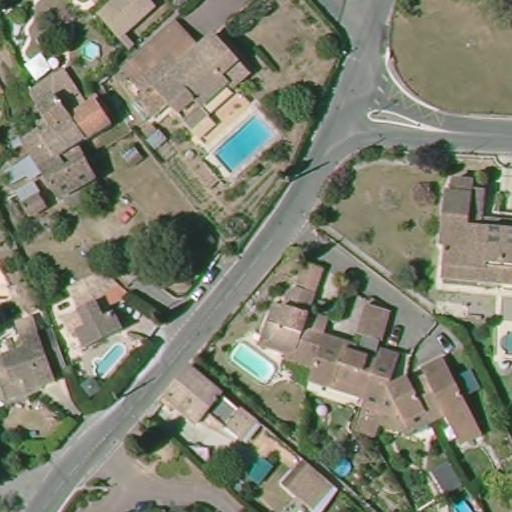pool: (205, 113, 280, 173), (226, 335, 283, 388), (88, 343, 128, 378), (322, 451, 356, 478), (77, 38, 107, 64)
